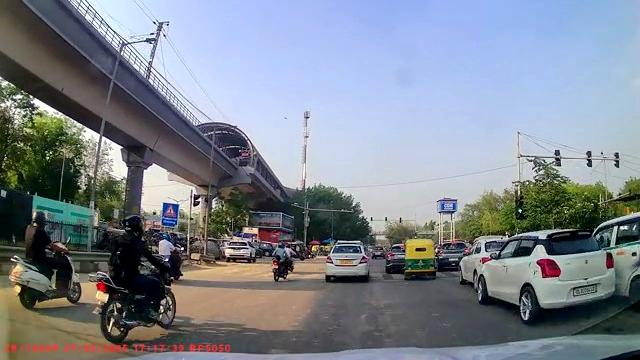motorcycle_with_helmet: (94, 214, 178, 343), (9, 210, 83, 309), (270, 239, 296, 283)
